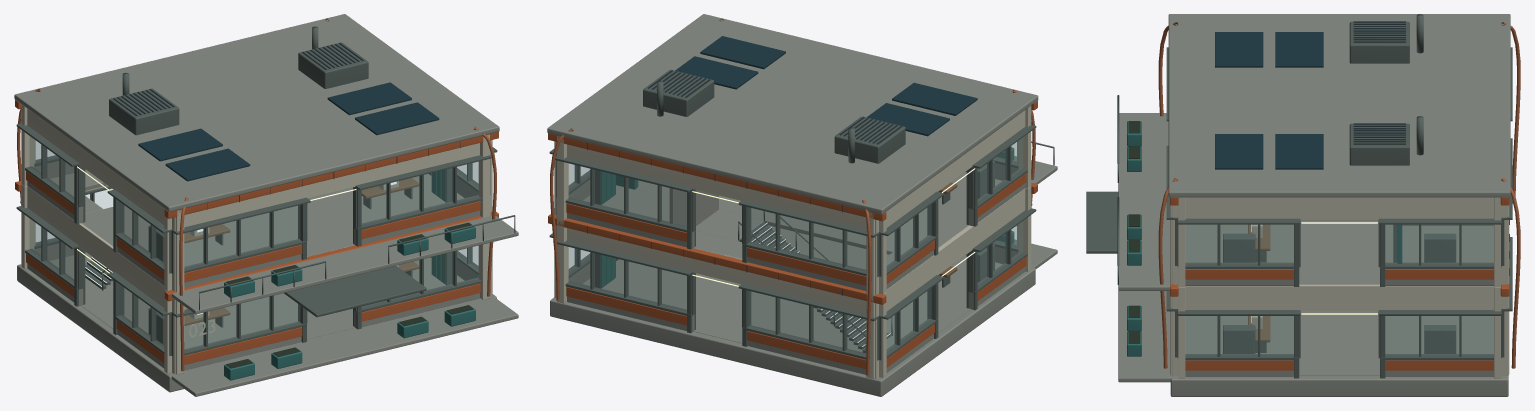
Rendered from laboratory.glb.
3 renders of one model, left to right at view 1: azimuth 30°, elevation 25°; view 2: azimuth 150°, elevation 25°; view 3: azimuth 270°, elevation 25°, orthographic. The views are drawn at different scales.
Visible parts, largest first — view 1: laboratory; view 2: laboratory; view 3: laboratory.
Boxes of the visible parts, <box> form: laboratory: <box>14,14,518,396</box>; laboratory: <box>547,14,1057,396</box>; laboratory: <box>1086,14,1520,396</box>.
Size of the model in its own units: 21.2 by 13.3 by 21.6.
